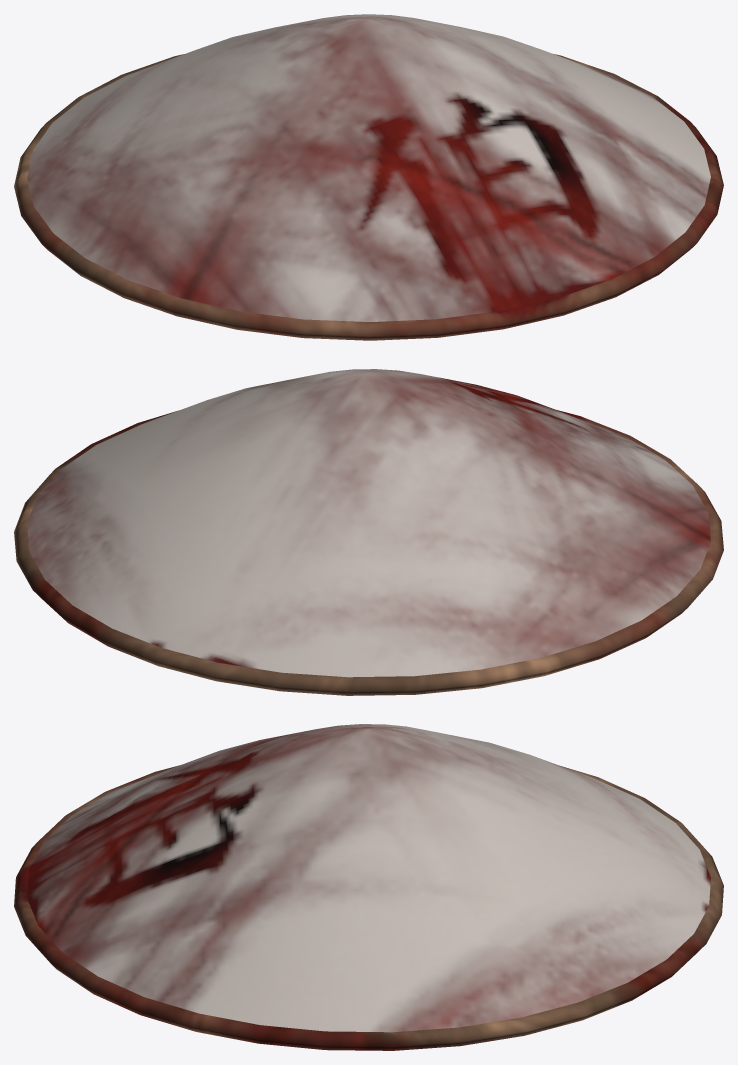
The model's file is imp_rattan_hat.glb.
3 renders of one model, top to bottom at view 1: azimuth 30°, elevation 25°; view 2: azimuth 150°, elevation 25°; view 3: azimuth 270°, elevation 25°, orthographic.
Parts seen in each view (by area): view 1: imp_rattan_hat; view 2: imp_rattan_hat; view 3: imp_rattan_hat.
Part boxes in pixels (x1,y1,x2,y2): imp_rattan_hat: (14, 14, 723, 340); imp_rattan_hat: (14, 369, 723, 695); imp_rattan_hat: (14, 724, 723, 1050).
Bounding box in the file's own units: 1.12 × 0.3053 × 1.12.
Materials: 1 (1 with a texture image).
